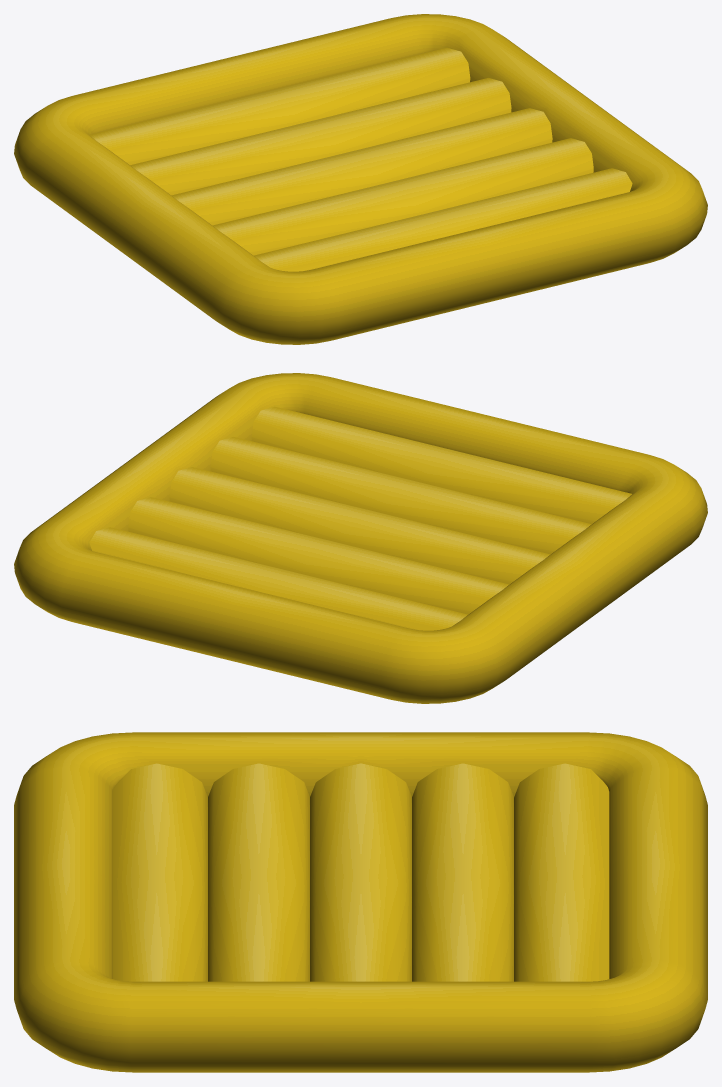
Rendered from tube_cube_yellow.fbx.
The picture shows the model from 3 angles, top to bottom: view 1: azimuth 30°, elevation 25°; view 2: azimuth 150°, elevation 25°; view 3: azimuth 270°, elevation 25°; orthographic projection. The views are drawn at different scales.
Visible parts, largest first — view 1: tube_cube_yellow; view 2: tube_cube_yellow; view 3: tube_cube_yellow.
Boxes of the visible parts, x1,y1,x2,y2 form: tube_cube_yellow: (14, 14, 707, 344); tube_cube_yellow: (14, 373, 707, 703); tube_cube_yellow: (14, 732, 707, 1072).
Size of the model in its own units: 80 by 10.09 by 80.
